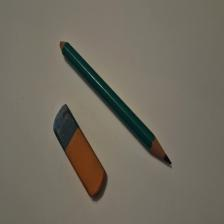eraser: (54, 104, 108, 198)
pencil: (61, 41, 173, 166)
